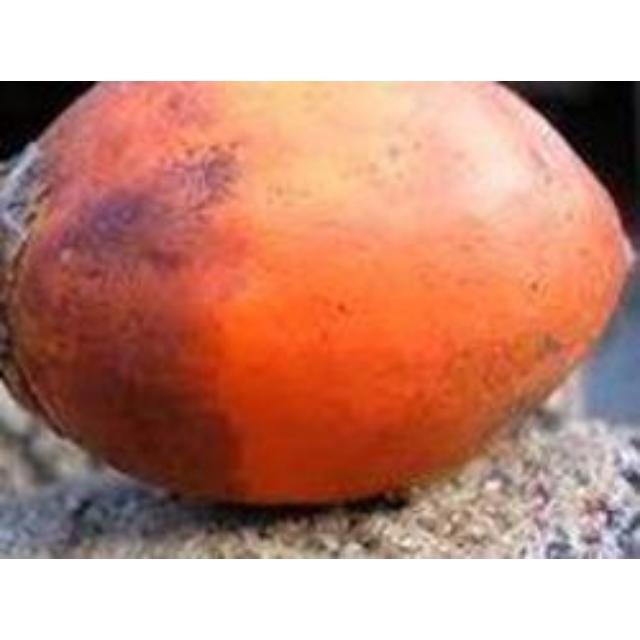good: (0, 81, 637, 514)
